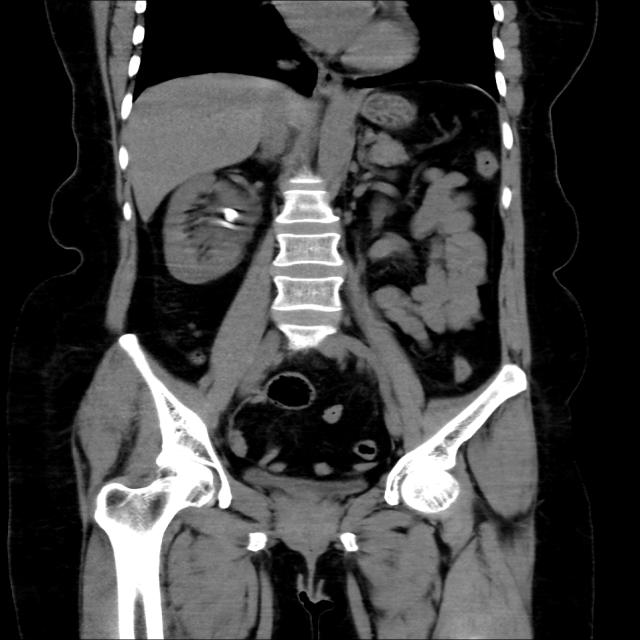kidneystone: (224, 208, 238, 222)
